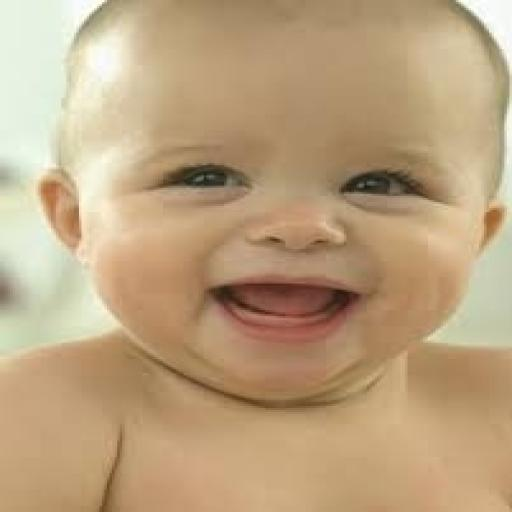laughing: (28, 0, 509, 408)
